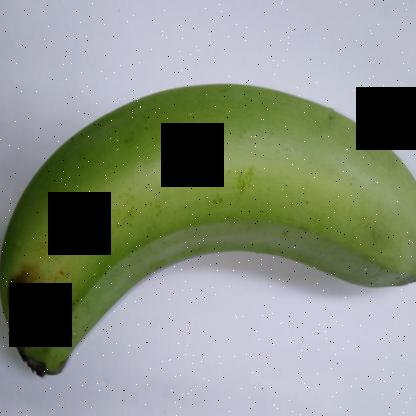freshunripe: (1, 72, 415, 390)
